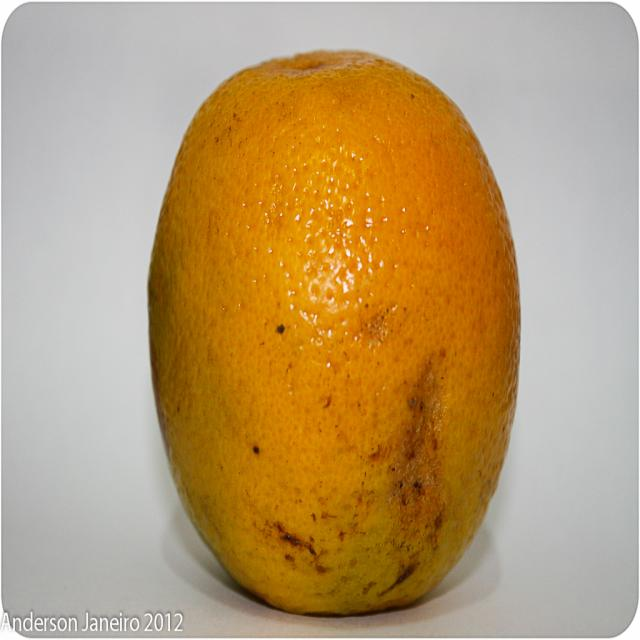Orange: (140, 52, 525, 617)
